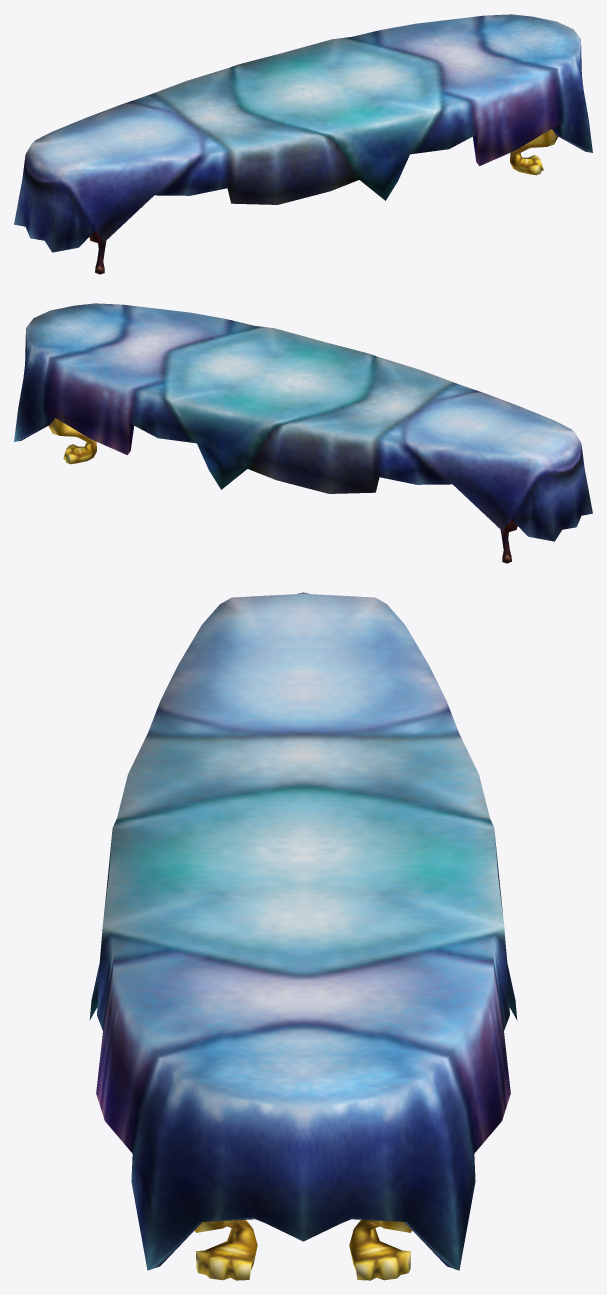
Rendered from TeaTable_DEFAULT.dae.
3 renders of one model, top to bottom at view 1: azimuth 30°, elevation 25°; view 2: azimuth 150°, elevation 25°; view 3: azimuth 270°, elevation 25°, orthographic. The views are drawn at different scales.
Parts seen in each view (by area): view 1: mesh0; view 2: mesh0; view 3: mesh0.
Boxes of the visible parts, left/top/right/bottom form: mesh0: left=14, top=14, right=592, bottom=274; mesh0: left=14, top=303, right=592, bottom=563; mesh0: left=89, top=592, right=517, bottom=1280.
Size of the model in its own units: 3.77 by 0.7237 by 1.27.
